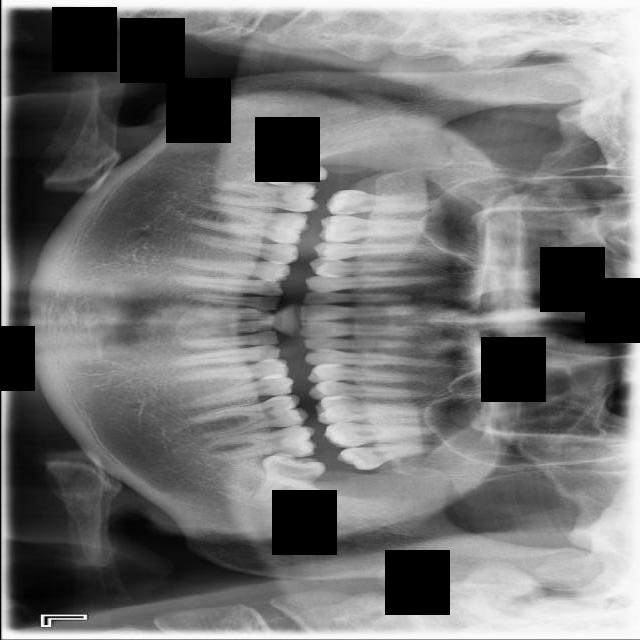BioHorizons Implant: (322, 416, 439, 449)
BioLife Implant: (335, 442, 440, 471)
Biomet 3i Implant: (250, 449, 328, 513)
Blue Sky Bio Implant: (207, 425, 316, 461)
Caries: (324, 183, 440, 217)
Implant: (211, 181, 318, 213)
Keystone Dental Implant: (258, 135, 328, 188)
